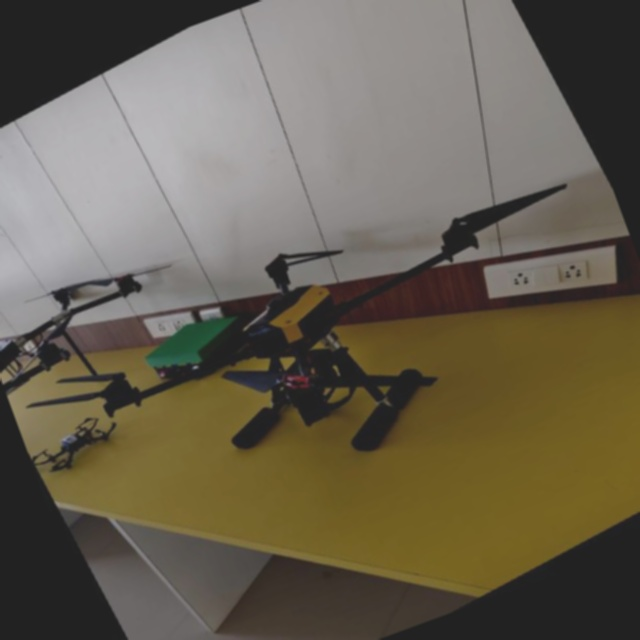quadcopter: (0, 88, 640, 597)
